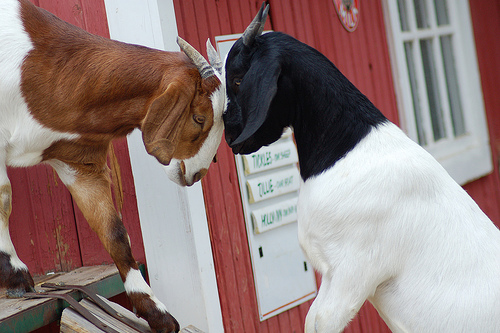goat: (225, 1, 499, 333), (1, 1, 225, 333)
